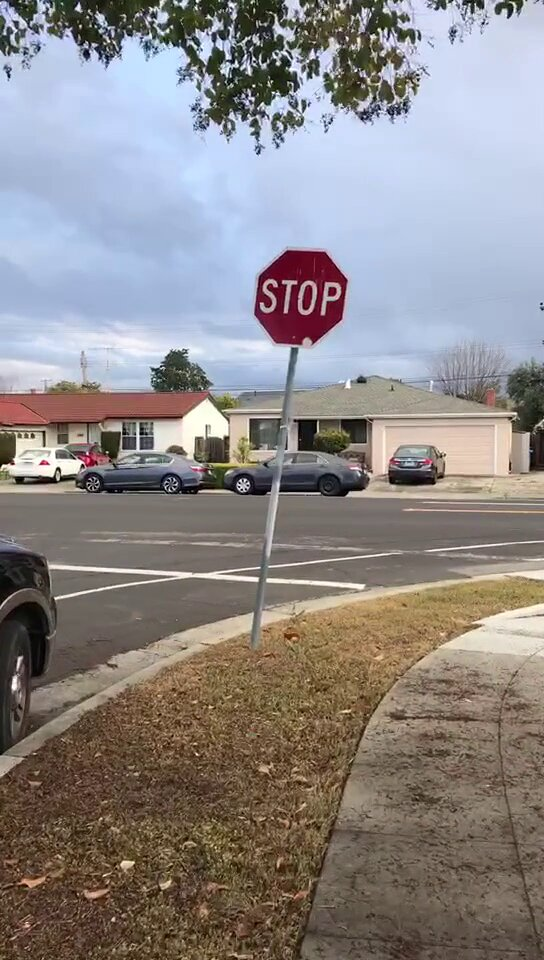stop_sign: (254, 249, 348, 349)
